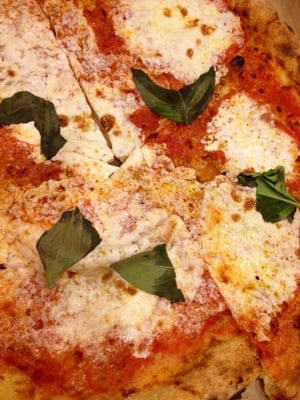sandwich: (0, 1, 300, 399)
